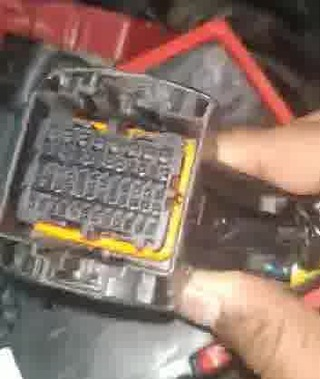connector: (1, 66, 212, 314)
